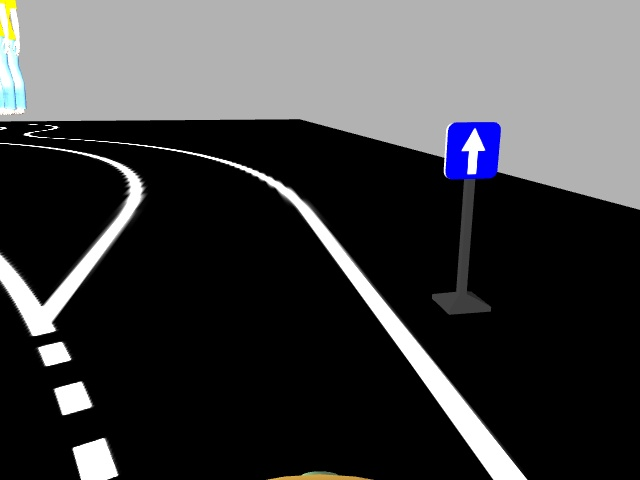OneWay: (442, 122, 498, 178)
